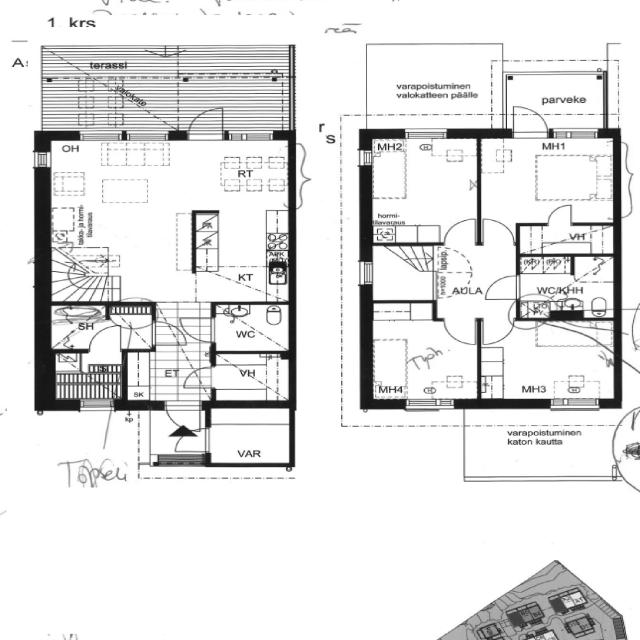door: (183, 104, 228, 142), (81, 322, 132, 354), (160, 397, 205, 433), (508, 104, 552, 139), (166, 426, 214, 454), (477, 214, 517, 247), (440, 317, 481, 346), (179, 316, 218, 346), (483, 273, 523, 302), (442, 216, 480, 245), (478, 319, 515, 346), (180, 365, 218, 391), (543, 202, 577, 227)
window: (402, 396, 459, 413), (546, 396, 604, 412), (547, 126, 605, 142), (400, 126, 455, 141), (224, 131, 278, 144), (75, 131, 126, 144), (75, 397, 117, 412), (593, 596, 617, 622), (122, 131, 172, 143), (356, 258, 376, 288), (30, 150, 52, 171), (356, 147, 374, 169)
zone: (49, 138, 301, 282), (197, 156, 294, 302), (477, 134, 620, 225), (369, 136, 481, 245), (477, 321, 616, 402), (368, 309, 479, 403), (518, 252, 616, 320), (44, 303, 154, 352), (206, 406, 295, 465), (209, 351, 294, 403), (210, 302, 293, 352), (364, 244, 435, 301), (51, 352, 125, 398), (518, 222, 618, 255)
